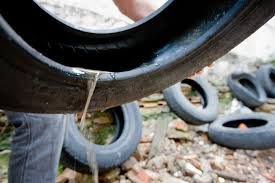tire: (1, 1, 275, 117), (52, 69, 144, 174), (159, 70, 220, 127), (206, 112, 275, 150), (226, 71, 265, 110)
